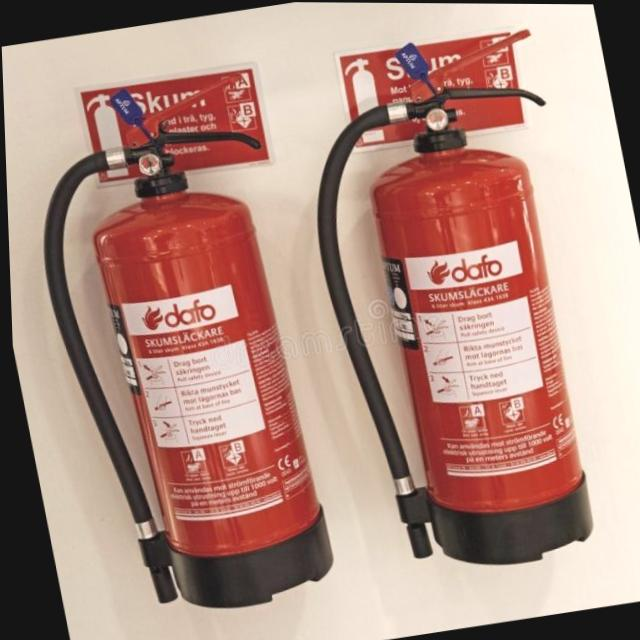FireExtinguisher: (277, 20, 638, 590), (6, 66, 350, 635)
